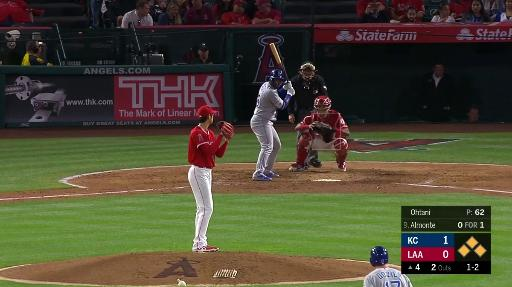pitcher: (188, 106, 234, 256)
